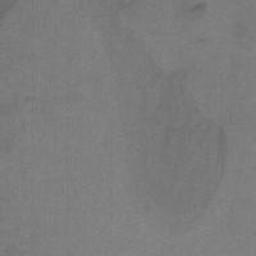Water spot: (78, 0, 229, 237), (182, 1, 206, 18), (0, 0, 17, 19), (197, 37, 206, 42)
